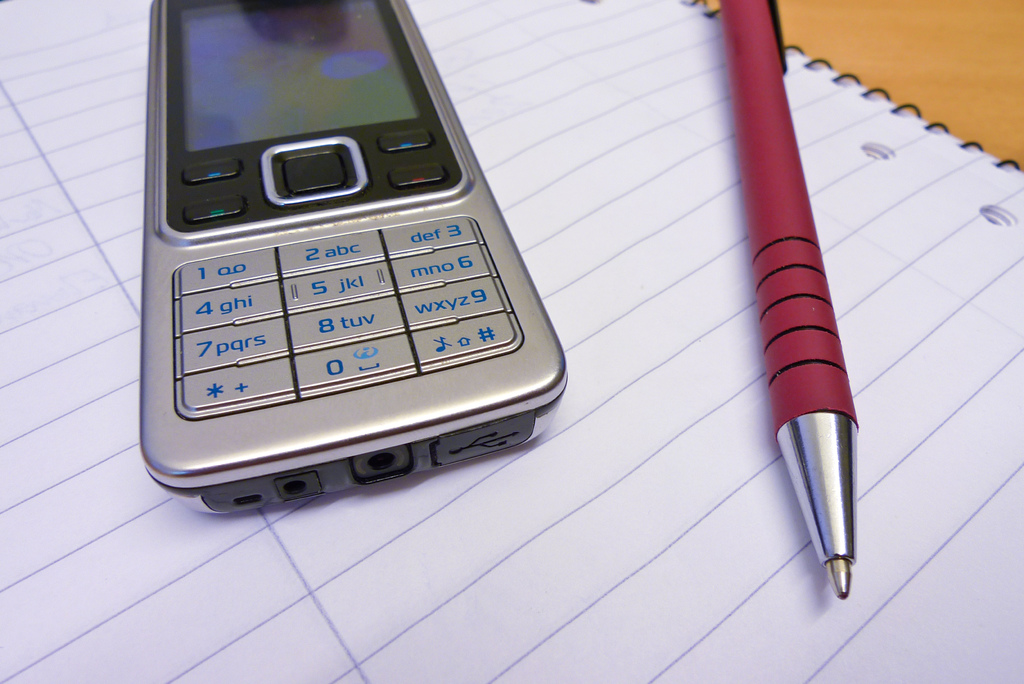Pen: (711, 0, 865, 601)
